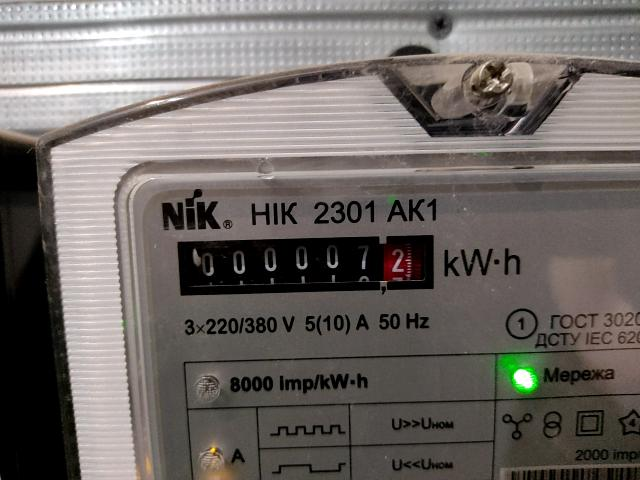0: (199, 250, 216, 277), (293, 244, 310, 271), (262, 245, 278, 273), (231, 248, 247, 275), (325, 243, 340, 271)
2: (390, 248, 406, 274)
7: (356, 242, 371, 272)
screen: (166, 229, 446, 301)
